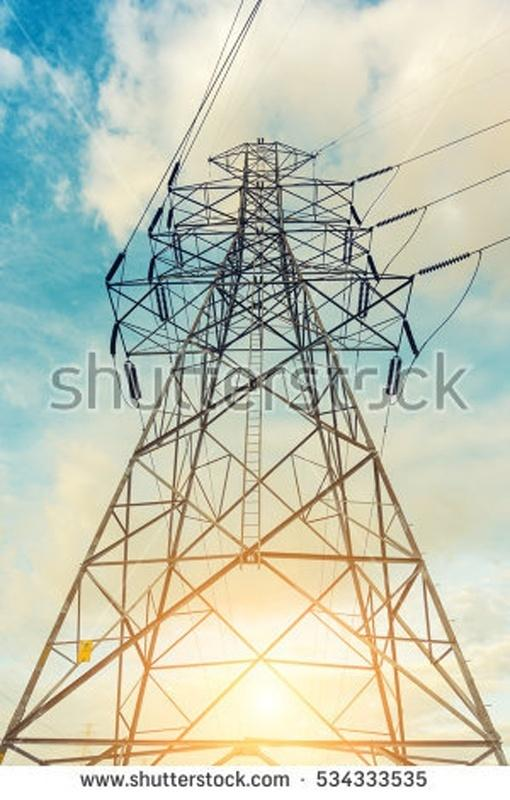power_tower: (16, 142, 493, 759)
